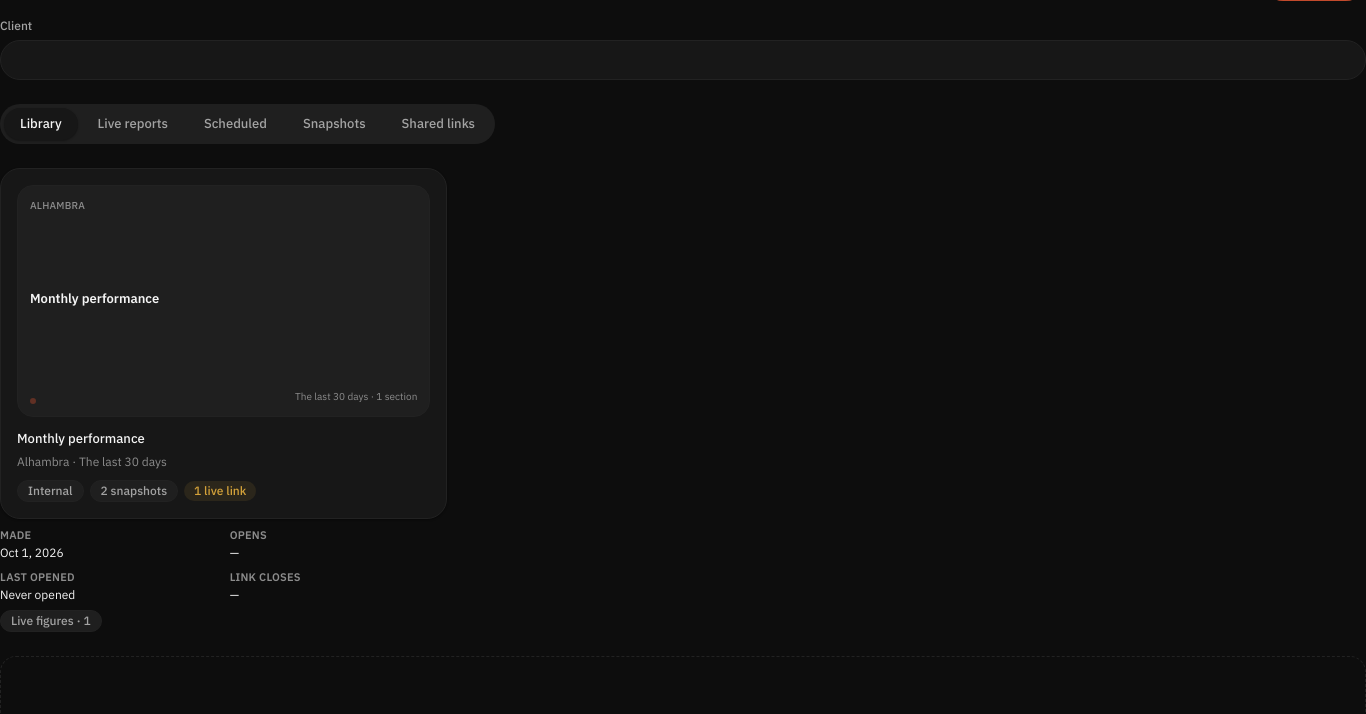
Test case: reading a report › says nothing was recorded rather than showing zeroes
Step 1. Click the button "Monthly performance" → (224,343), box [0, 168, 447, 519]
(page scrolled)
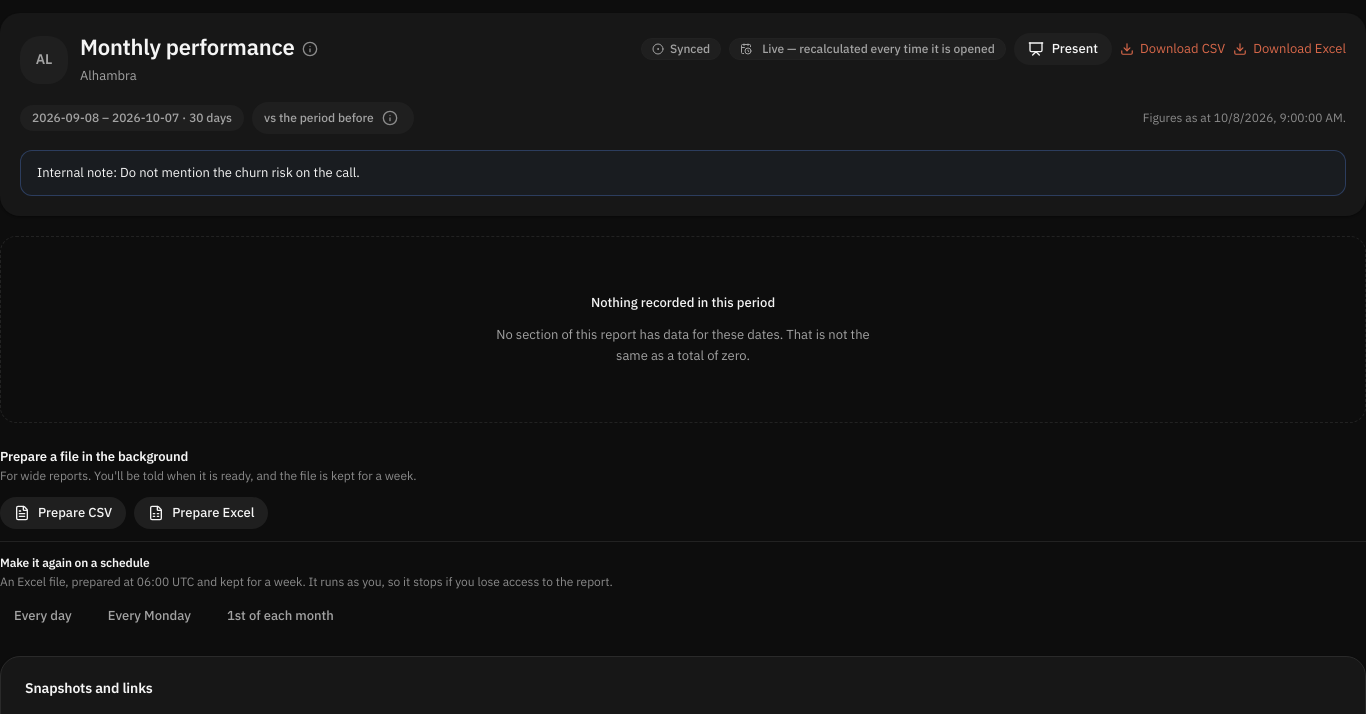
Expected: the text "Nothing recorded in this period" is shown, [591, 293, 775, 313]
Expected: the text "not the same as a total of zero" is shown, [496, 326, 870, 365]
